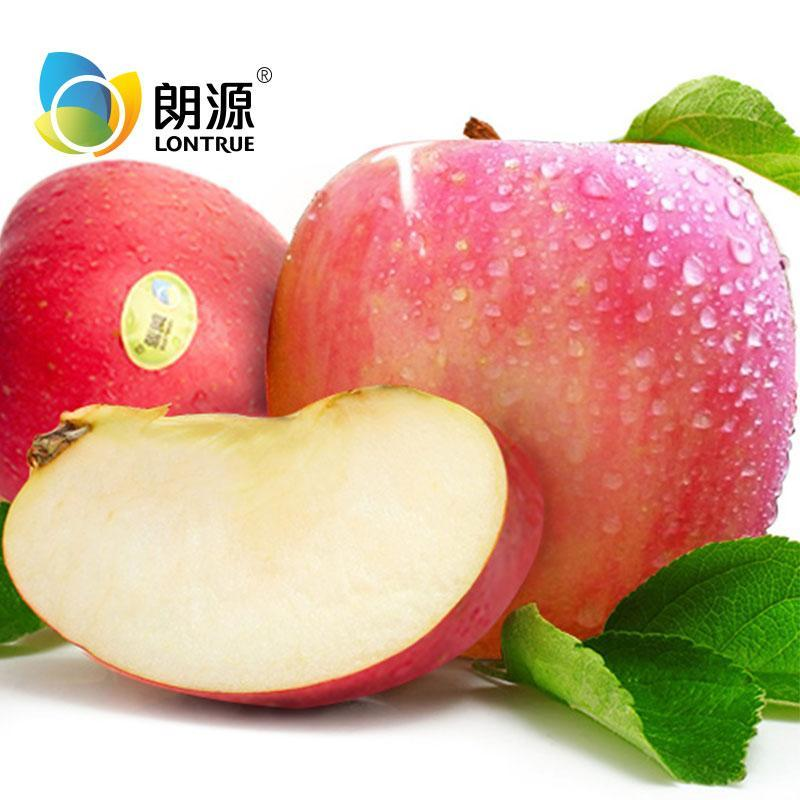apple: (288, 135, 800, 629), (1, 158, 289, 491)
